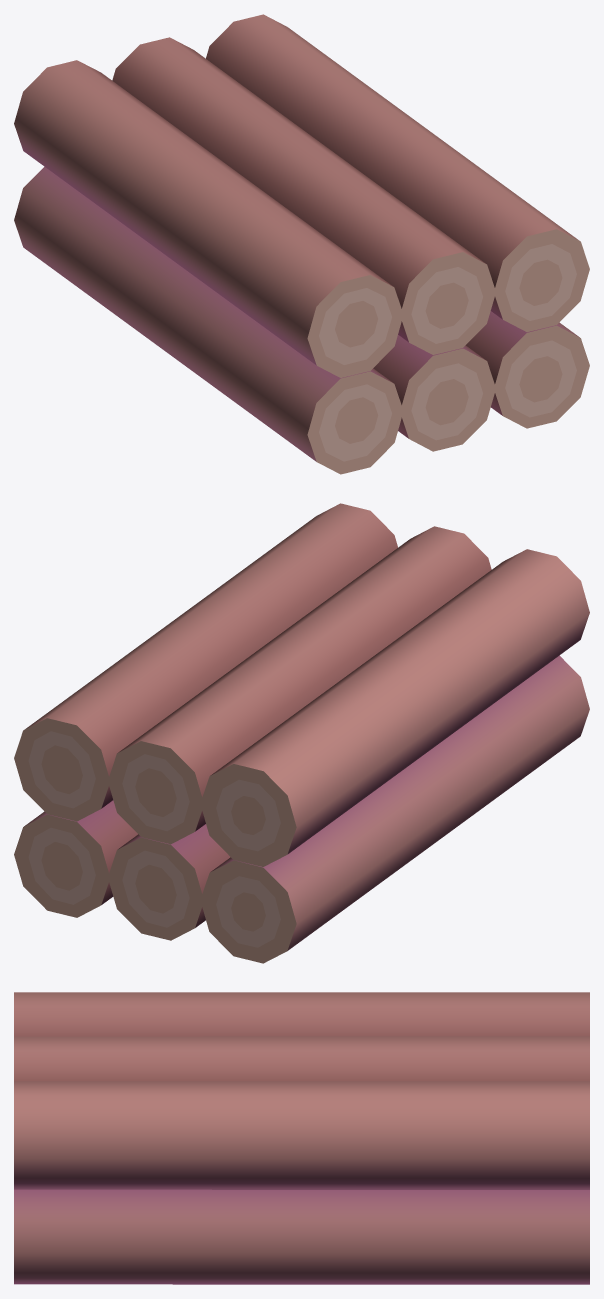
File: obstacle-log_platform_H1.glb
3 views of the same model, one above another, from view 1: azimuth 30°, elevation 25°; view 2: azimuth 150°, elevation 25°; view 3: azimuth 270°, elevation 25° (orthographic).
Visible parts, largest first — view 1: obstacle-log_platform_H1; view 2: obstacle-log_platform_H1; view 3: obstacle-log_platform_H1.
Boxes of the visible parts, bbox=[...] form: obstacle-log_platform_H1: bbox=[14, 14, 589, 474]; obstacle-log_platform_H1: bbox=[14, 503, 589, 963]; obstacle-log_platform_H1: bbox=[14, 992, 589, 1284].
Size of the model in its own units: 3.34 by 2.18 by 6.
